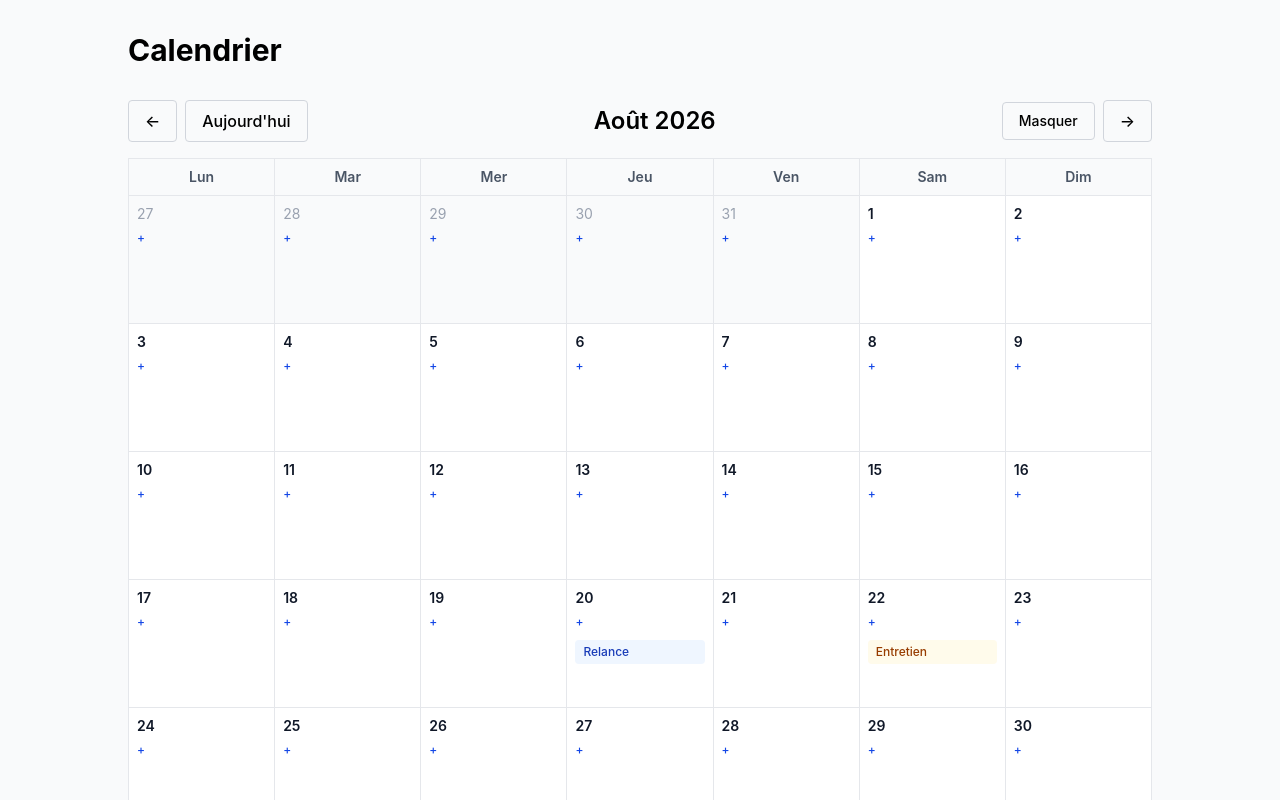
Test: CalendarPage › renders a monthly calendar grid and navigates between months
The image size is (1280, 800).
Expected: the heading "août 2026" is shown, [594,105,716,137]
Click the button named "Mois suivant" at (1127, 121), box [1103,100,1152,142]
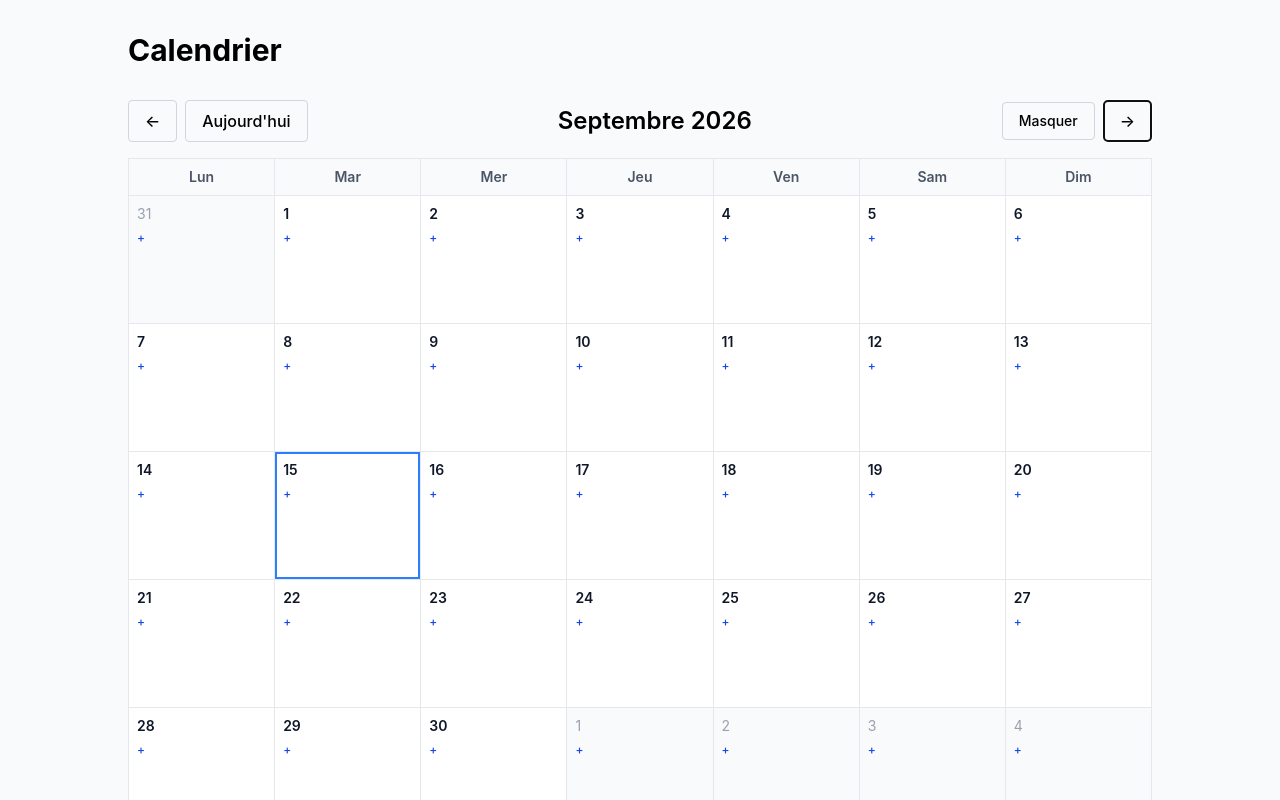
Expected: the heading "septembre 2026" is shown, [558,105,752,137]
Click the button named "Mois précédent" at (153, 121), box [128,100,177,142]
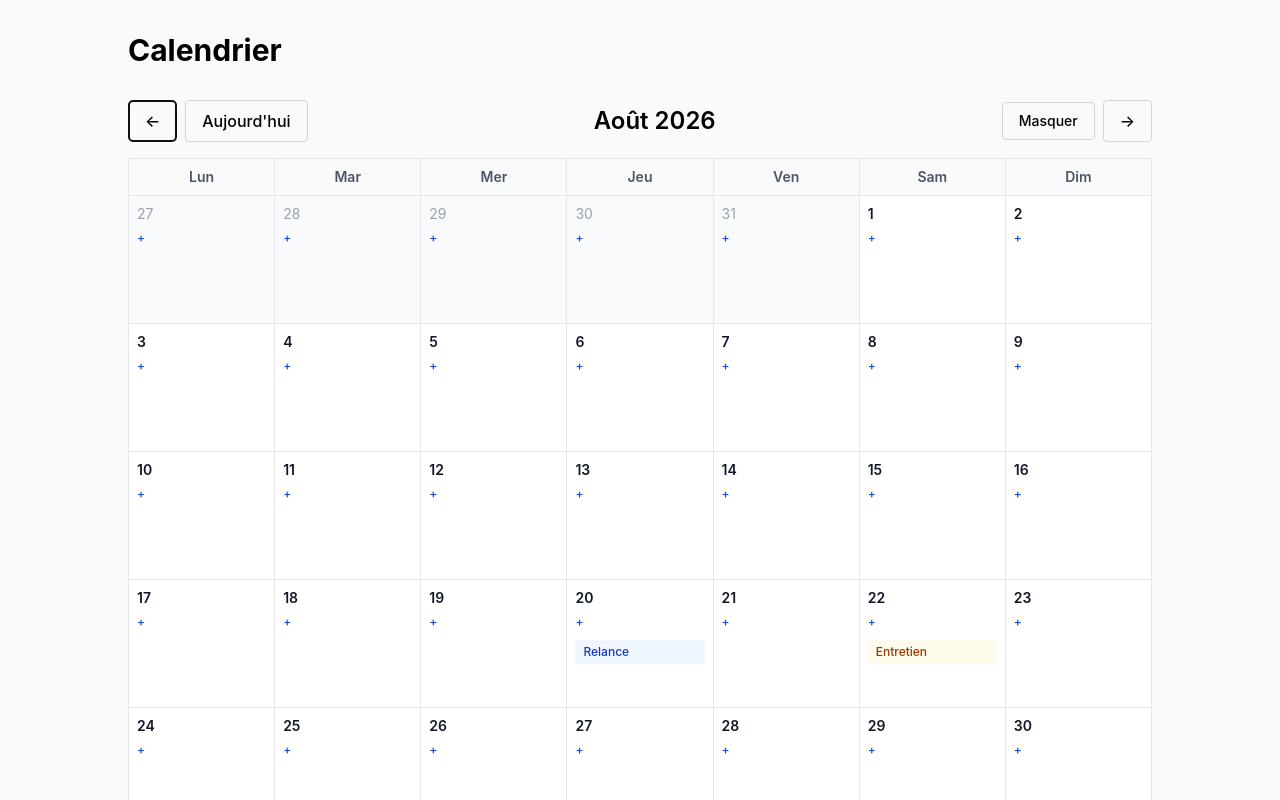
Expected: the heading "août 2026" is shown, [594,105,716,137]
